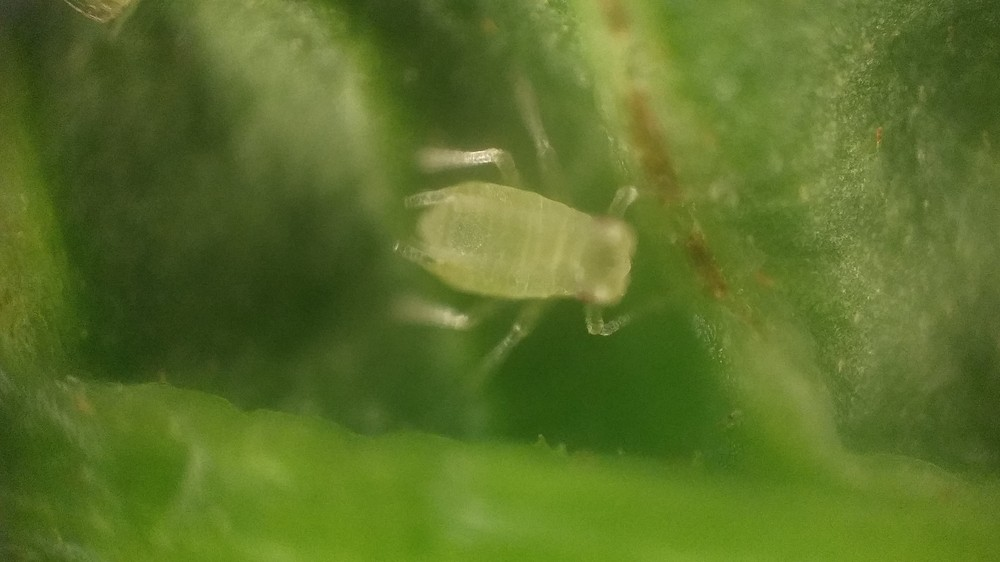Pulgon: (359, 103, 738, 400)
